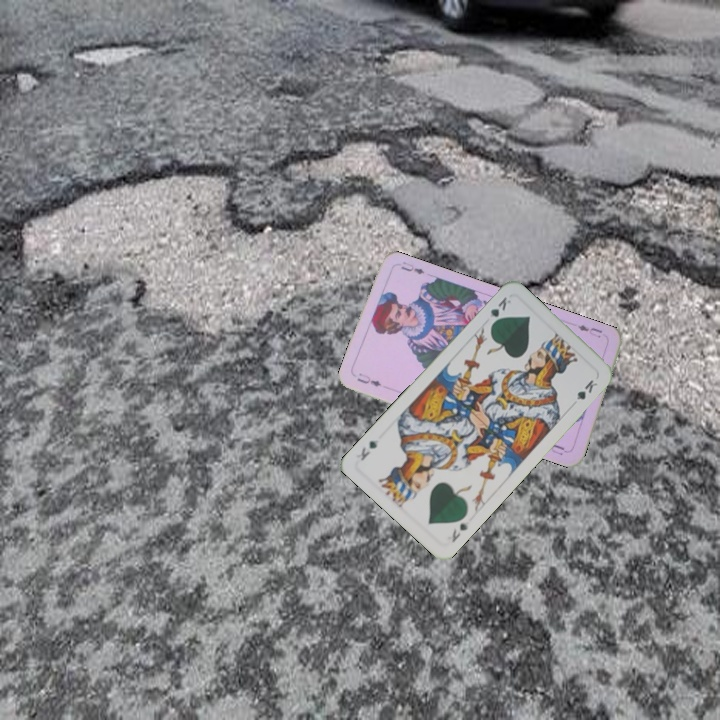EU: (574, 320, 605, 340), (353, 369, 384, 389)
GK: (486, 292, 514, 329), (443, 519, 471, 545)
